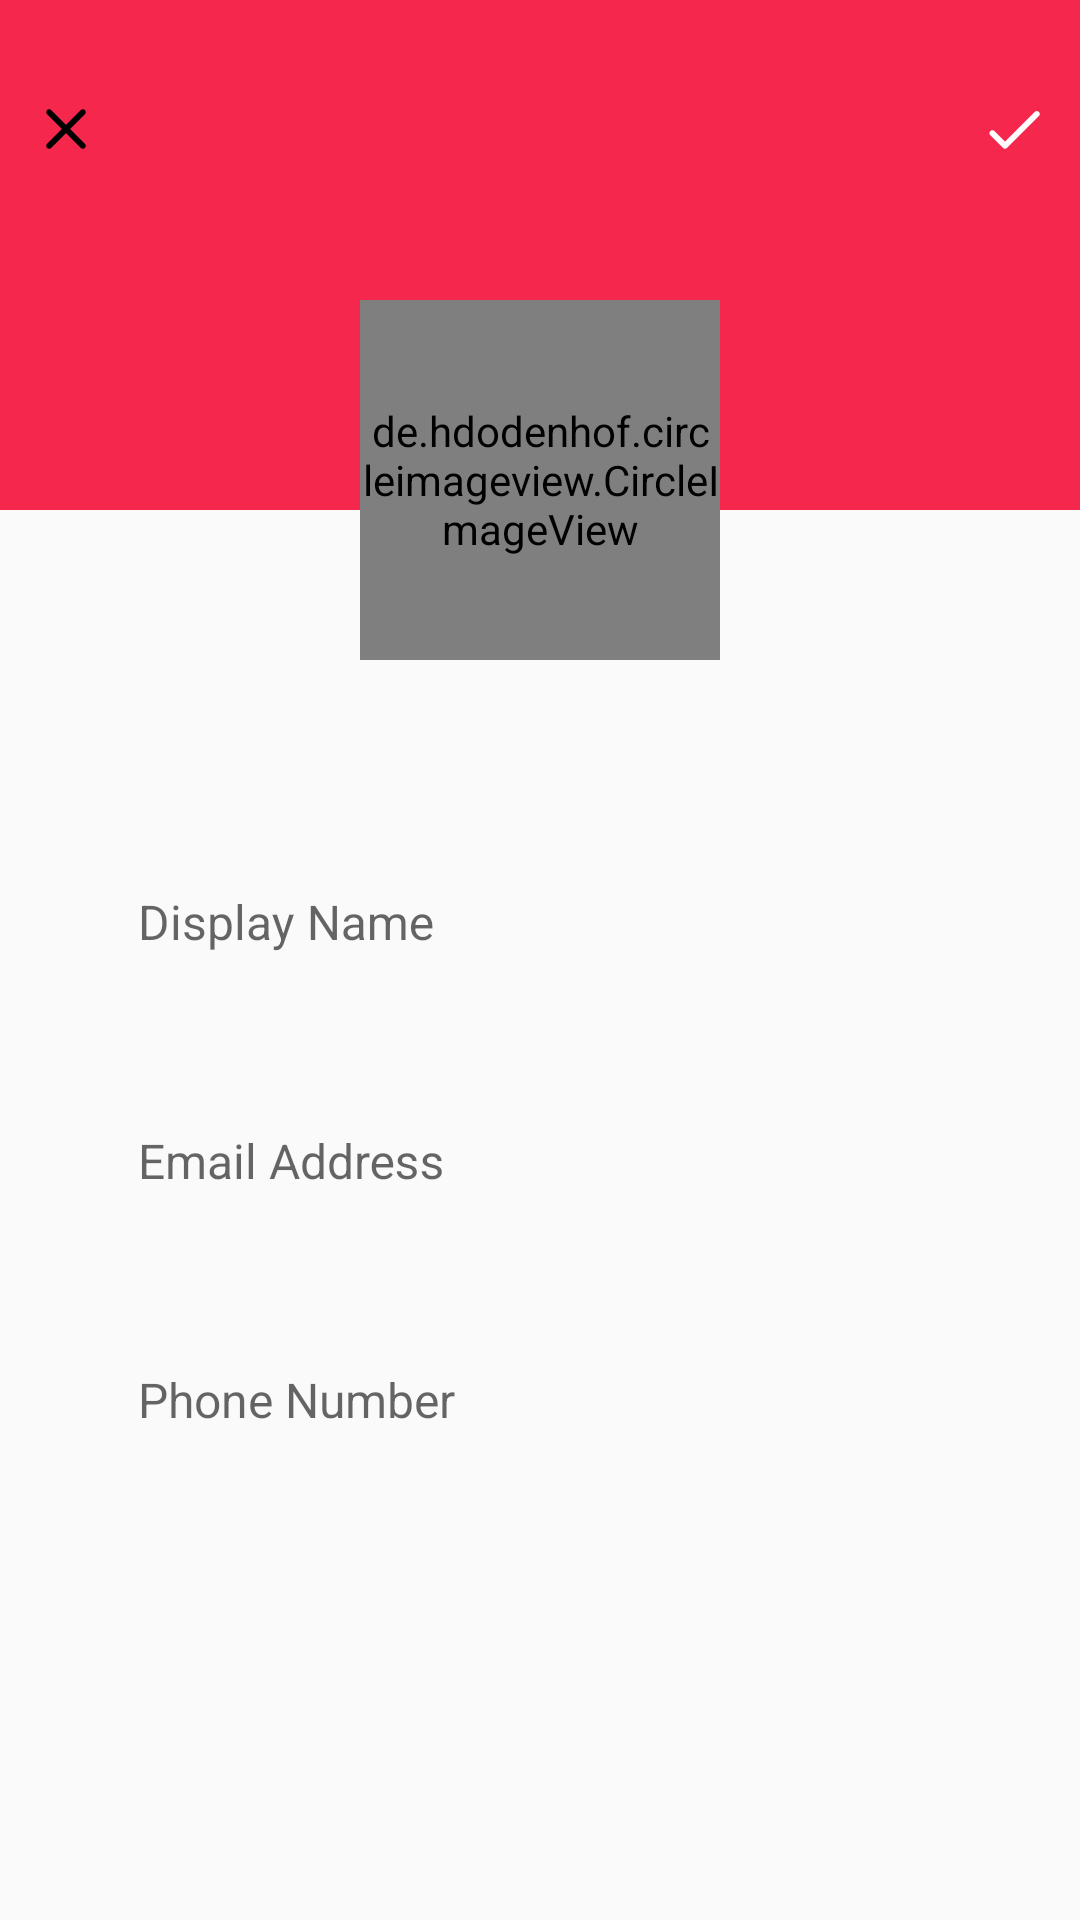

Icons on this 1080x1920 Android screen, each with the point to tap as [x,y]:
clear: [66,129]
done: [1014,130]
